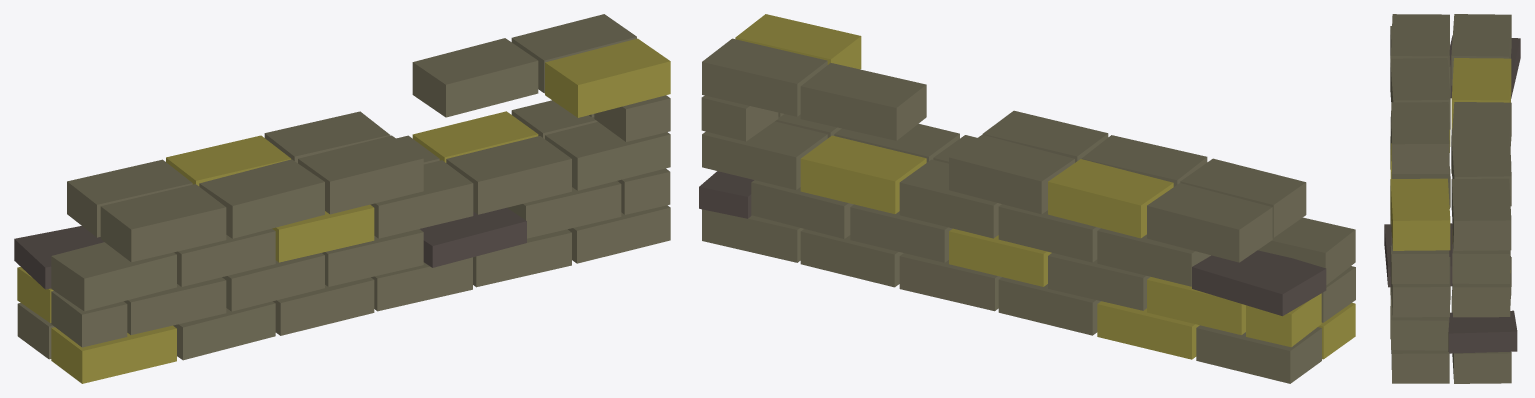
File: SM_PretilTramo_v2_Irregular_e1_Danado_LOD0.fbx
The picture shows the model from 3 angles, left to right: view 1: azimuth 30°, elevation 25°; view 2: azimuth 150°, elevation 25°; view 3: azimuth 270°, elevation 25°; orthographic projection. The views are drawn at different scales.
Parts seen in each view (by area): view 1: SM_pretil_azotea_v9_LOD0; view 2: SM_pretil_azotea_v9_LOD0; view 3: SM_pretil_azotea_v9_LOD0.
Boxes of the visible parts, <box> form: SM_pretil_azotea_v9_LOD0: <box>14,14,670,383</box>; SM_pretil_azotea_v9_LOD0: <box>699,14,1355,383</box>; SM_pretil_azotea_v9_LOD0: <box>1384,14,1520,383</box>.
Size of the model in its own units: 5.12 by 1.47 by 1.11.
